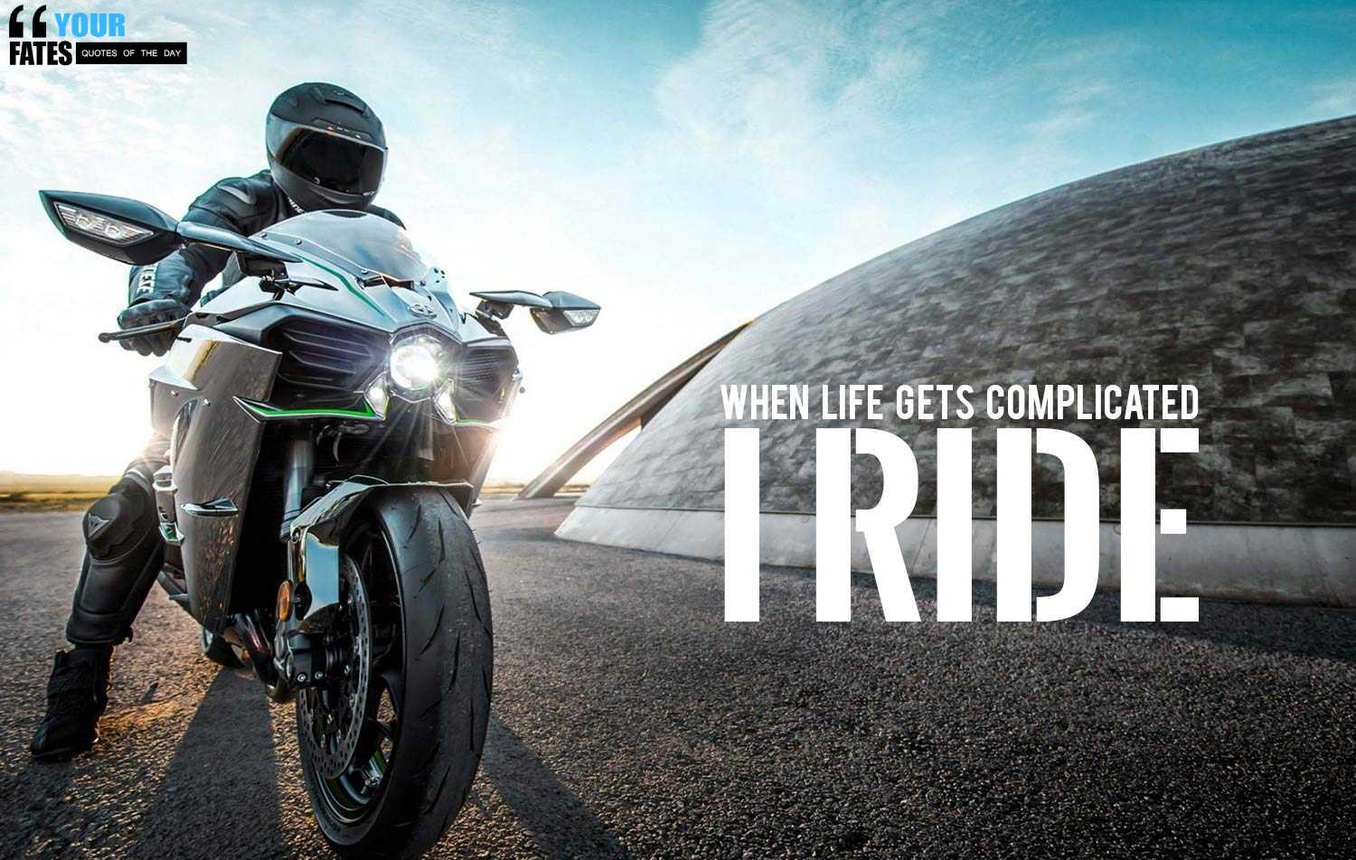helmet: (245, 82, 434, 236)
